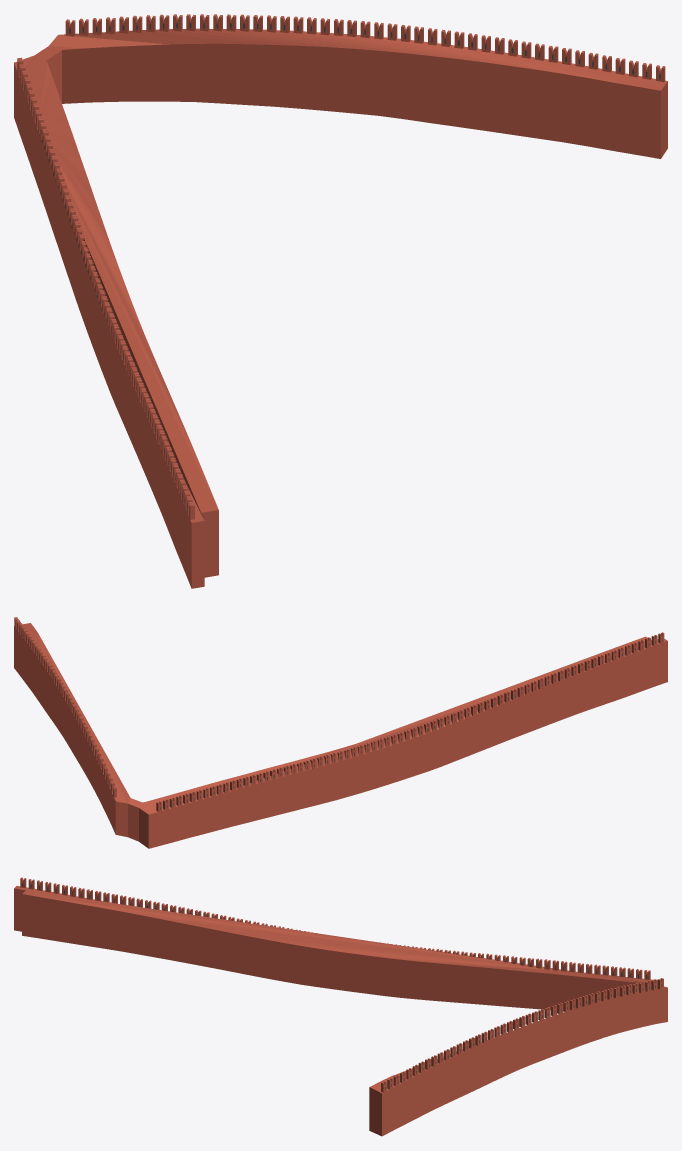
File: moscow-kremlin-wall-nikolskaya-middle-arsenal.glb
3 renders of one model, top to bottom at view 1: azimuth 30°, elevation 25°; view 2: azimuth 150°, elevation 25°; view 3: azimuth 270°, elevation 25°, orthographic. The views are drawn at different scales.
Visible parts, largest first — view 1: Kremlin Wall, Nikolskaya Tower to Middle Arsenal Tower; view 2: Kremlin Wall, Nikolskaya Tower to Middle Arsenal Tower; view 3: Kremlin Wall, Nikolskaya Tower to Middle Arsenal Tower.
Part boxes in pixels (x1,y1,x2,y2): Kremlin Wall, Nikolskaya Tower to Middle Arsenal Tower: (14,14,667,588); Kremlin Wall, Nikolskaya Tower to Middle Arsenal Tower: (14,617,667,848); Kremlin Wall, Nikolskaya Tower to Middle Arsenal Tower: (14,877,667,1136).
Size of the model in its own units: 127 by 23.62 by 147.
